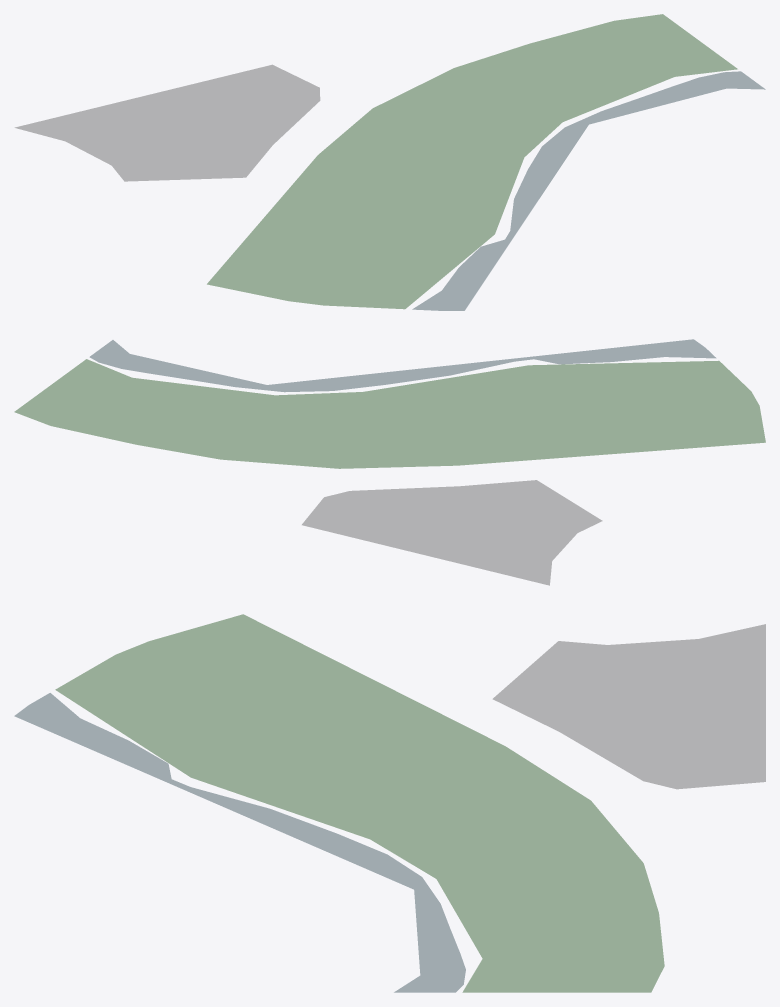
File: 122_133_mid.glb
3 renders of one model, top to bottom at view 1: azimuth 30°, elevation 25°; view 2: azimuth 150°, elevation 25°; view 3: azimuth 270°, elevation 25°, orthographic. The views are drawn at different scales.
Bounding box in the file's own units: 369 × 0.0484 × 310.
